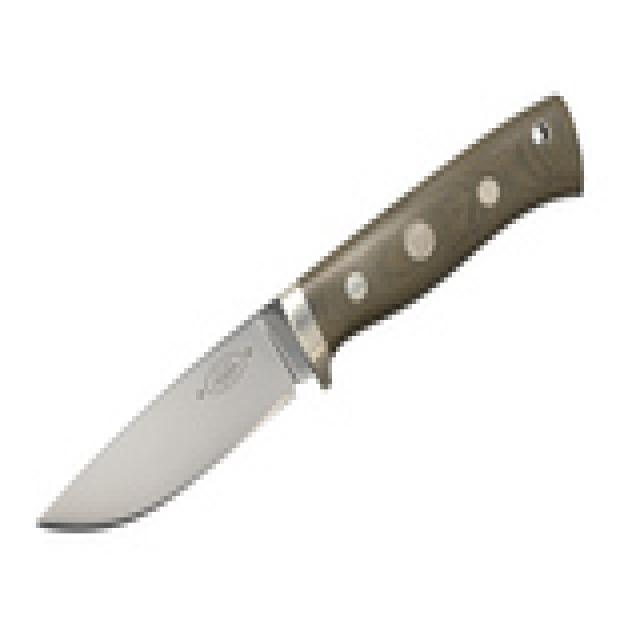Knife: (16, 89, 590, 552)
